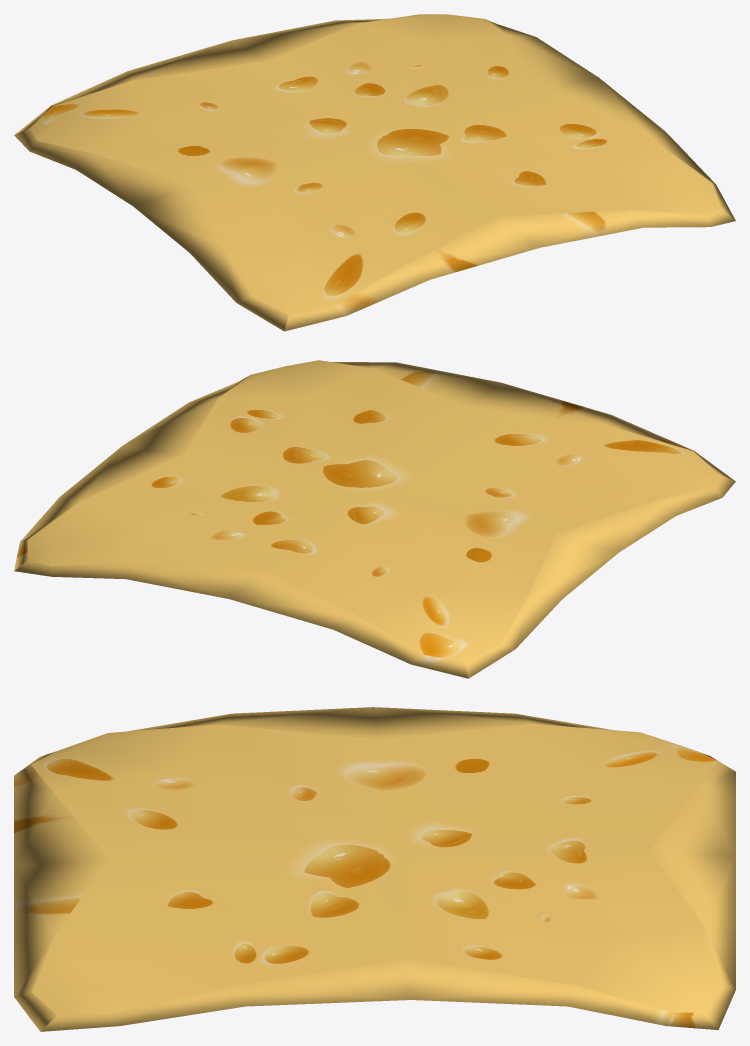
The model's file is cheese_FBX.fbx.
3 renders of one model, top to bottom at view 1: azimuth 30°, elevation 25°; view 2: azimuth 150°, elevation 25°; view 3: azimuth 270°, elevation 25°, orthographic. The views are drawn at different scales.
Visible parts, largest first — view 1: Osy; view 2: Osy; view 3: Osy.
Part boxes in pixels (x1,y1,x2,y2): Osy: (14,14,735,331); Osy: (14,360,735,678); Osy: (14,707,735,1031).
Bounding box in the file's own units: 448 × 32.8 × 466.
